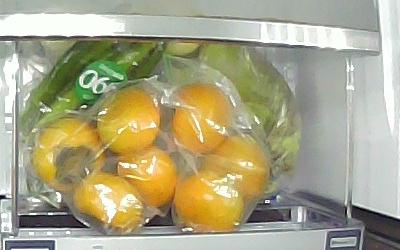persimmon_vinyl: (32, 116, 105, 193), (72, 172, 145, 234), (168, 84, 231, 154), (172, 172, 243, 234), (97, 88, 160, 156), (206, 135, 269, 202), (117, 147, 176, 208)
